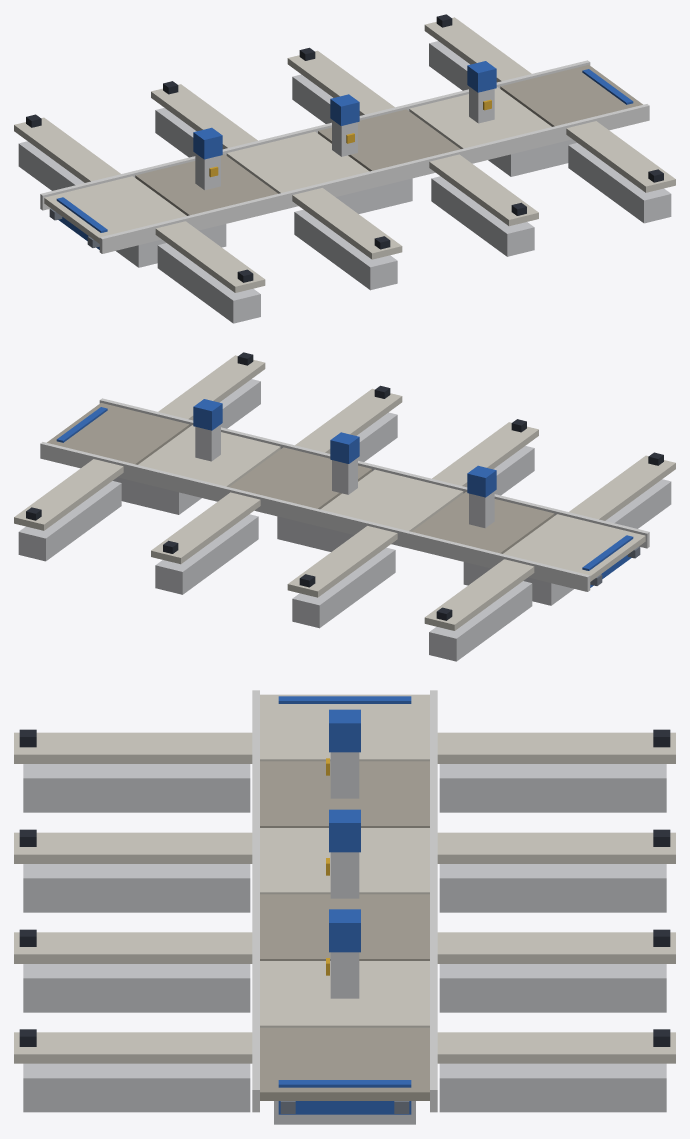
The model's file is marina_pontoon.glb.
3 renders of one model, top to bottom at view 1: azimuth 30°, elevation 25°; view 2: azimuth 150°, elevation 25°; view 3: azimuth 270°, elevation 25°, orthographic. The views are drawn at different scales.
Parts seen in each view (by area): view 1: marina_pontoon; view 2: marina_pontoon; view 3: marina_pontoon.
Boxes of the visible parts, left/top/right/bottom form: marina_pontoon: left=14, top=14, right=675, bottom=323; marina_pontoon: left=14, top=352, right=675, bottom=661; marina_pontoon: left=14, top=690, right=675, bottom=1124.
Size of the model in its own units: 10 by 1.64 by 7.
